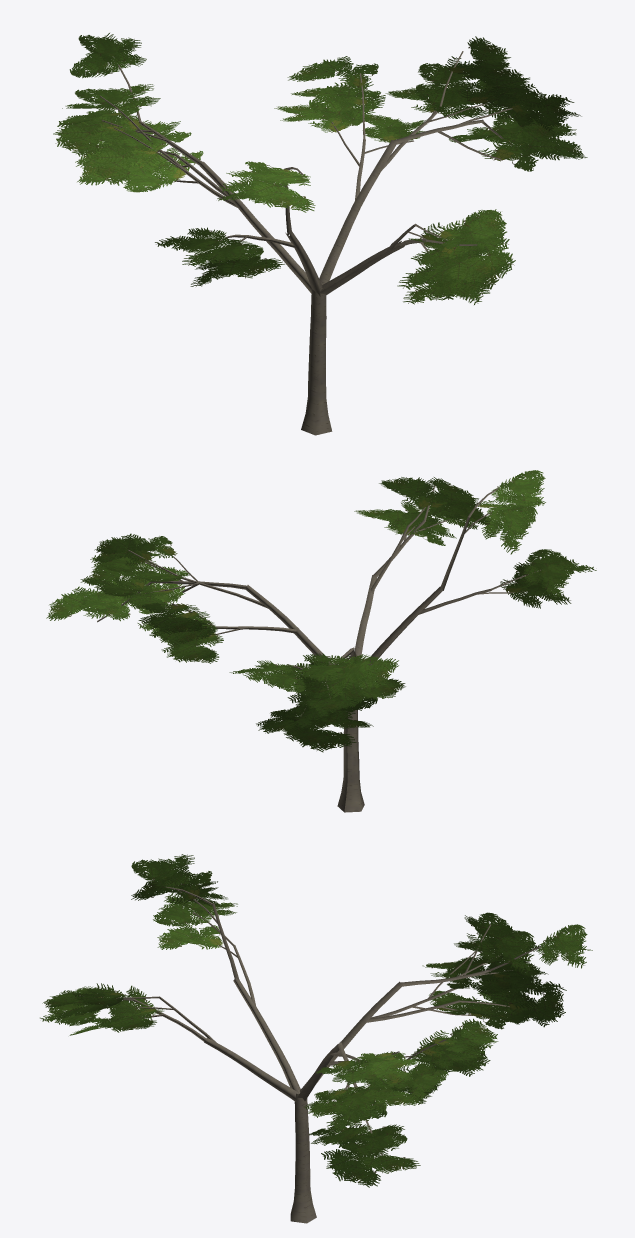
File: albizia-schimperiana-lod2.glb
3 views of the same model, one above another, from view 1: azimuth 30°, elevation 25°; view 2: azimuth 150°, elevation 25°; view 3: azimuth 270°, elevation 25° (orthographic). The views are drawn at different scales.
Parts seen in each view (by area): view 1: albizia_foliage, albizia_bark; view 2: albizia_foliage, albizia_bark; view 3: albizia_foliage, albizia_bark.
Part boxes in pixels (x1=…): albizia_foliage: x1=53, y1=33, x2=587, y2=304; albizia_bark: x1=100, y1=51, x2=522, y2=435; albizia_foliage: x1=46, y1=470, x2=596, y2=752; albizia_bark: x1=97, y1=485, x2=540, y2=812; albizia_foliage: x1=40, y1=854, x2=592, y2=1187; albizia_bark: x1=79, y1=886, x2=540, y2=1223.
Bounding box in the file's own units: 24.32 × 14.47 × 25.86.
2 materials, 2 textured.
